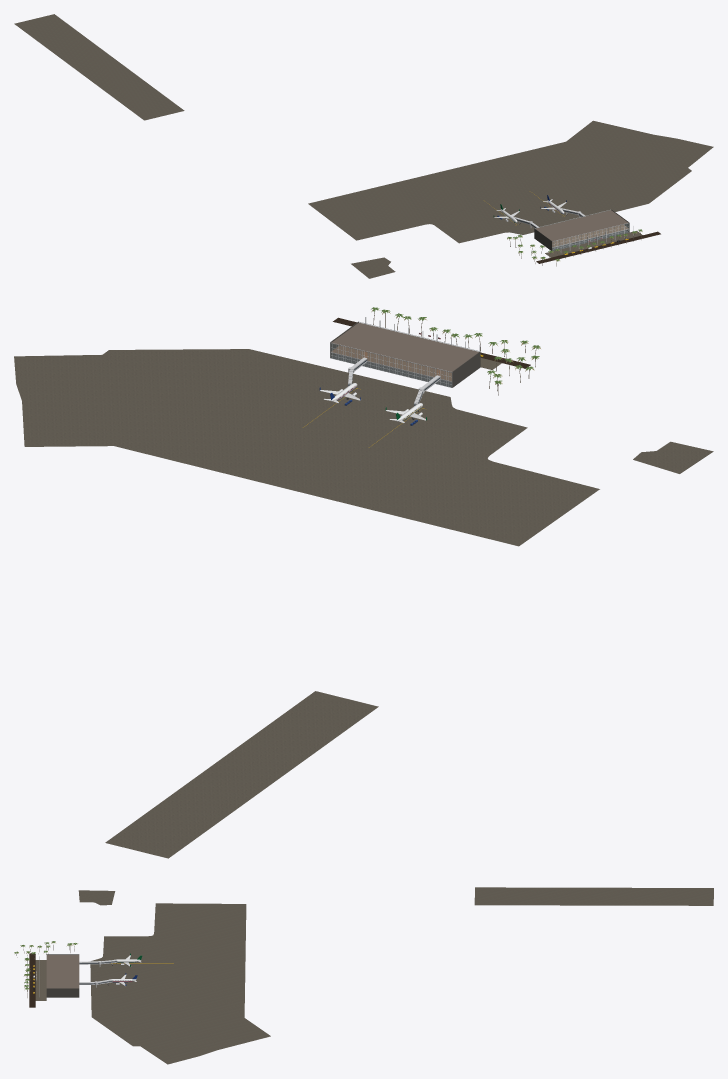
File: ria-arrivals.v1.glb
The picture shows the model from 3 angles, top to bottom: view 1: azimuth 30°, elevation 25°; view 2: azimuth 150°, elevation 25°; view 3: azimuth 270°, elevation 25°; orthographic projection. The views are drawn at different scales.
Parts seen in each view (by area): view 1: apron.001, apron, floors, forecourt, glass, apron.002; view 2: apron.001, apron, floors, glass.001, apron.002, mullions.001; view 3: apron.001, apron, floors, forecourt, apron.002, ends.
Part boxes in pixels (left/top/right/bottom): apron.001: left=308, top=120, right=713, bottom=243; apron: left=14, top=14, right=184, bottom=120; floors: left=535, top=210, right=628, bottom=250; forecourt: left=536, top=231, right=660, bottom=263; glass: left=552, top=223, right=628, bottom=250; apron.002: left=351, top=257, right=395, bottom=278; apron.001: left=14, top=349, right=599, bottom=546; apron: left=105, top=691, right=378, bottom=858; floors: left=331, top=322, right=478, bottom=387; glass.001: left=331, top=343, right=451, bottom=387; apron.002: left=633, top=441, right=713, bottom=473; mullions.001: left=330, top=342, right=452, bottom=387; apron.001: left=90, top=903, right=270, bottom=1064; apron: left=474, top=887, right=713, bottom=905; floors: left=46, top=955, right=79, bottom=988; forecourt: left=29, top=953, right=46, bottom=1007; apron.002: left=78, top=890, right=115, bottom=905; ends: left=46, top=954, right=79, bottom=997.
Size of what is drawn, in the model's own units: 532 by 14.45 by 889.
Materials: 58 (10 with a texture image).
